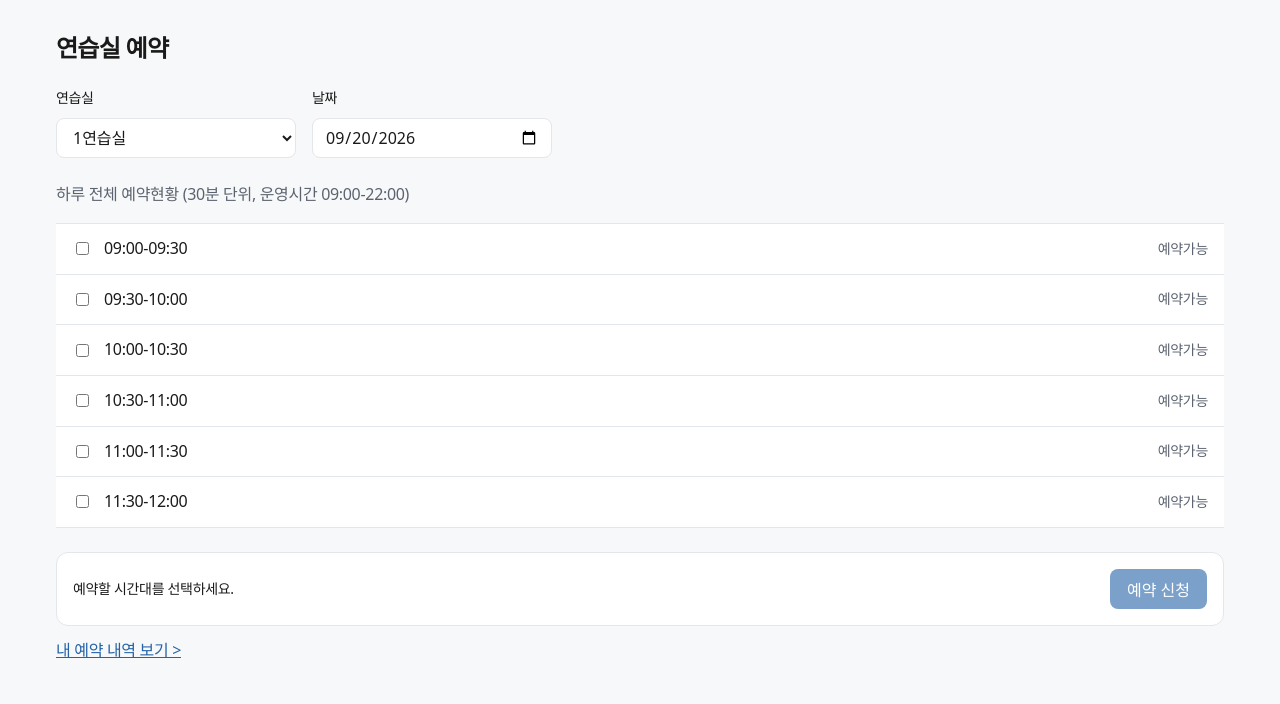
Test: 연속 슬롯 선택 › 비연속 슬롯을 고르면 안내가 뜨고 예약이 진행되지 않는다
This screenshot has width=1280, height=704.
expect the text "09:00-09:30" is shown: met, box [104,236,187,262]
Click the checkbox labelled "09:00-09:30 예약가능" at x=82, y=249, box [76,242,89,256]
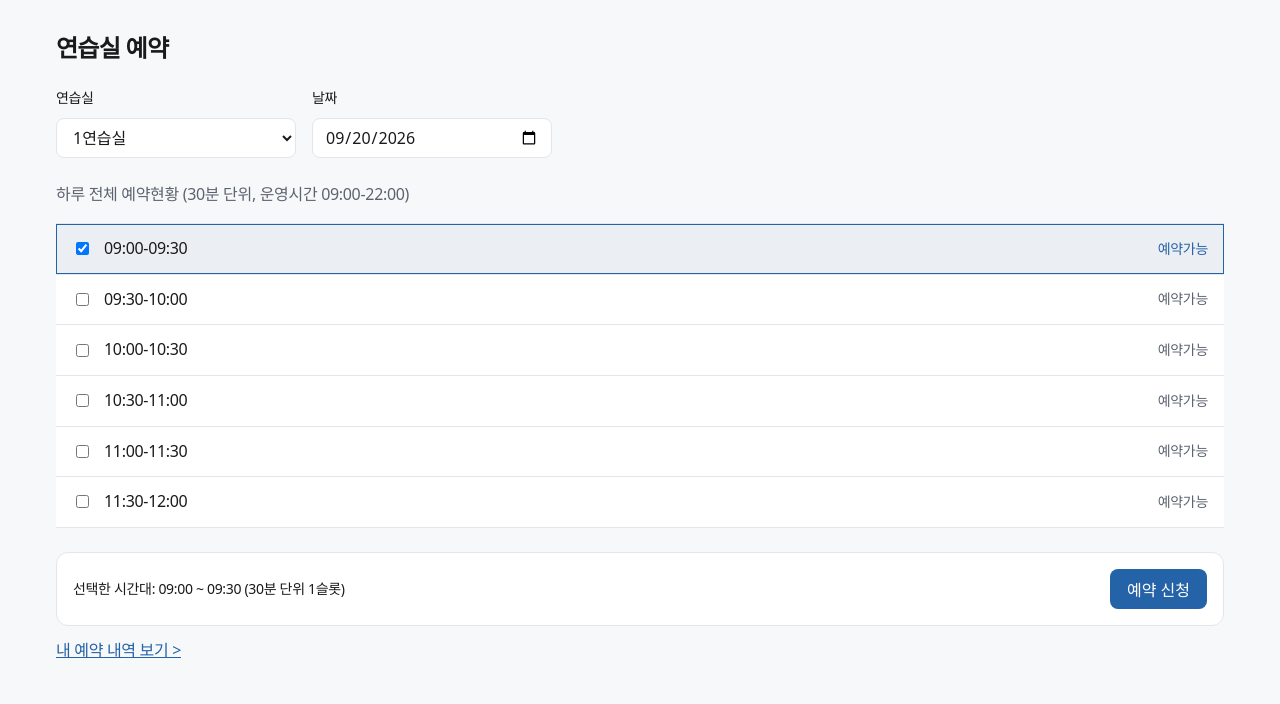
Click the checkbox labelled "10:30-11:00 예약가능" at x=82, y=401, box [76,394,89,407]
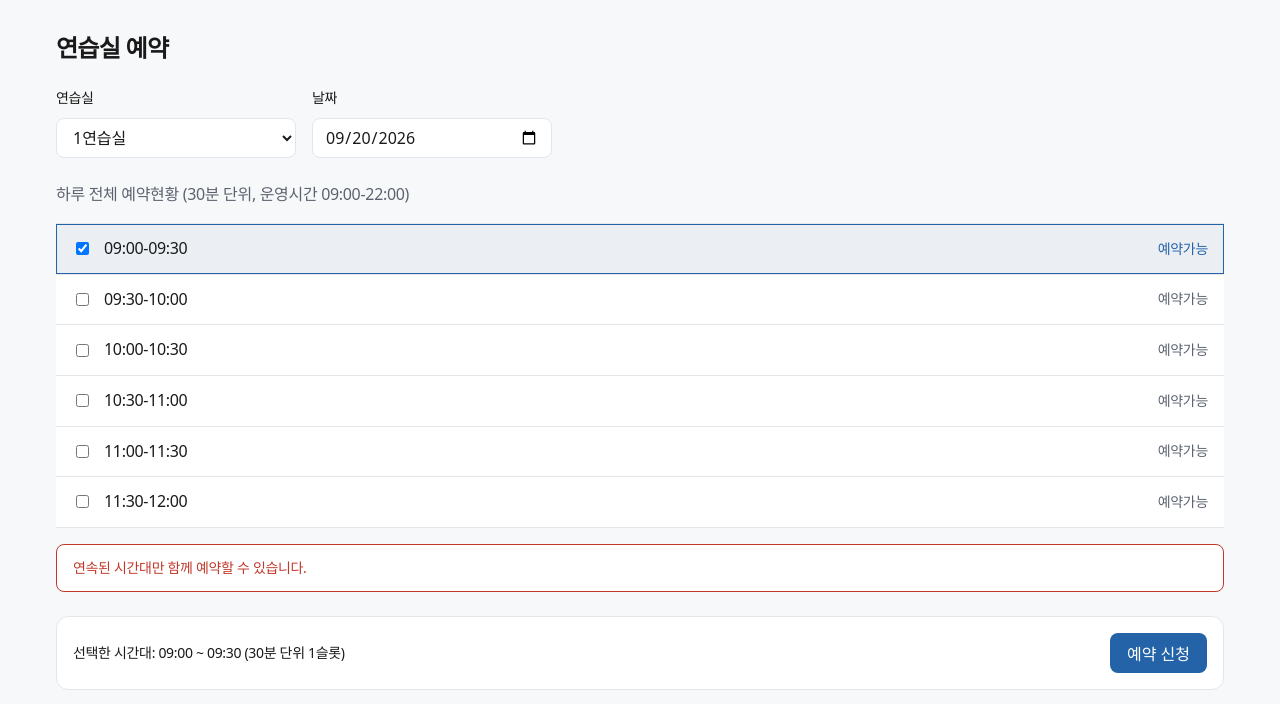
expect the text "선택한 시간대: 09:00 ~ 09:30 (30분 단위 1슬롯)" is shown: met, box [73,642,345,664]
expect the message reads "연속된 시간대만 함께 예약할 수 있습니다.": met, box [73,558,307,577]
